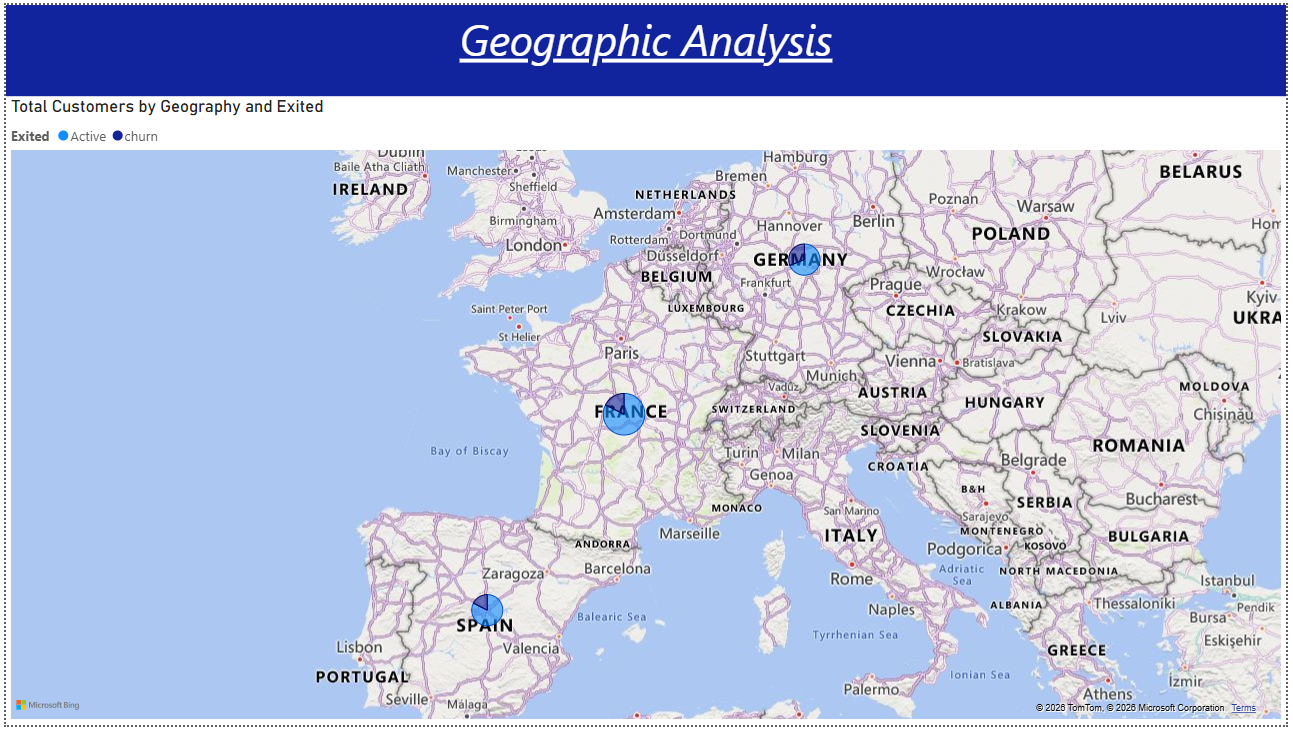

What the dashboard file says about the page in this screenshot:
{"tool":"powerbi","page":{"name":"Page 4","canvas":[1280,720],"ordinal":3},"visuals":[{"type":"map","fields":{"Category":["Sheet1.Geography"],"Series":["Sheet1.Exited"],"Size":["Sheet1.Total Customers"]},"box":[0,91.4,1280,628.6],"z":0},{"type":"textbox","box":[0,0,1280,91.4],"z":1000}]}

Visuals, with their boxes in screenshot pixels (x1, y1, x2, y2), scaled from the page's 1280x720 canvas onto the 1293x730 screenshot:
map - Sheet1.Geography x Sheet1.Exited: select_region(0, 93, 1292, 729)
textbox: select_region(0, 0, 1292, 93)
